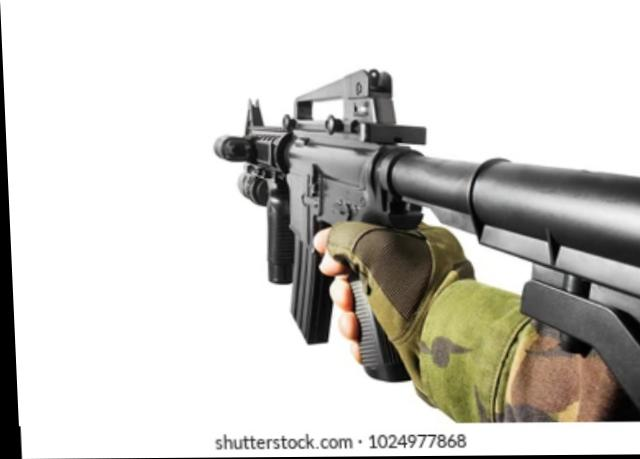other: (311, 198, 640, 417)
